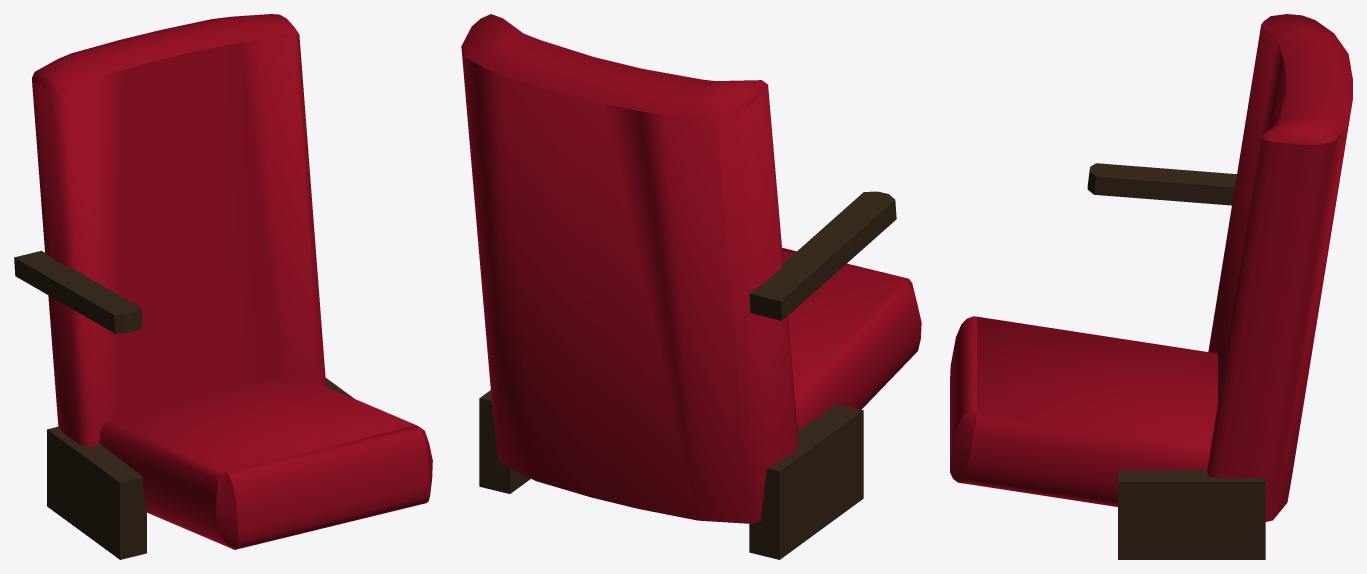
Rendered from seat1.dae.
3 views of the same model, side by side, from view 1: azimuth 30°, elevation 25°; view 2: azimuth 150°, elevation 25°; view 3: azimuth 270°, elevation 25° (orthographic). The views are drawn at different scales.
Visible parts, largest first — view 1: group_2, group_3, group_0, group_1; view 2: group_2, group_3, group_0 (×2), group_1; view 3: group_2, group_3, group_0, group_1.
Part boxes in pixels (bbox=[...]): group_2: bbox=[32, 14, 326, 446]; group_3: bbox=[99, 374, 432, 549]; group_0: bbox=[47, 426, 146, 559]; group_1: bbox=[14, 251, 142, 333]; group_2: bbox=[461, 14, 798, 523]; group_3: bbox=[782, 248, 921, 430]; group_0 (×2): bbox=[479, 390, 863, 559]; group_1: bbox=[749, 191, 896, 320]; group_2: bbox=[1206, 14, 1352, 521]; group_3: bbox=[950, 316, 1217, 506]; group_0: bbox=[1118, 469, 1265, 559]; group_1: bbox=[1087, 163, 1236, 205].
Size of the model in its own units: 21.02 by 26.04 by 30.16.
